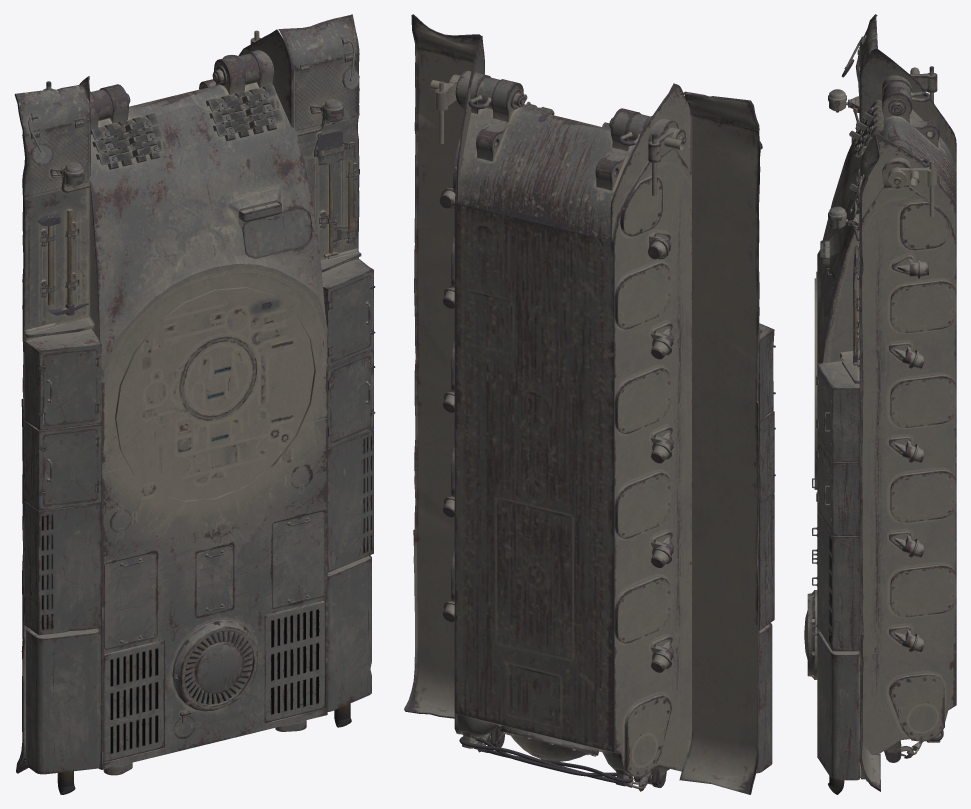
The model's file is Hull.glb.
3 views of the same model, side by side, from view 1: azimuth 30°, elevation 25°; view 2: azimuth 150°, elevation 25°; view 3: azimuth 270°, elevation 25° (orthographic). The views are drawn at different scales.
Visible parts, largest first — view 1: set_0_group_0; view 2: set_0_group_0; view 3: set_0_group_0.
Part boxes in pixels (x1=…): set_0_group_0: x1=14, y1=14, x2=375, y2=794; set_0_group_0: x1=404, y1=14, x2=775, y2=794; set_0_group_0: x1=804, y1=14, x2=956, y2=794.
Bounding box in the file's own units: 3.21 × 6.3 × 1.36.
1 material, 1 textured.
